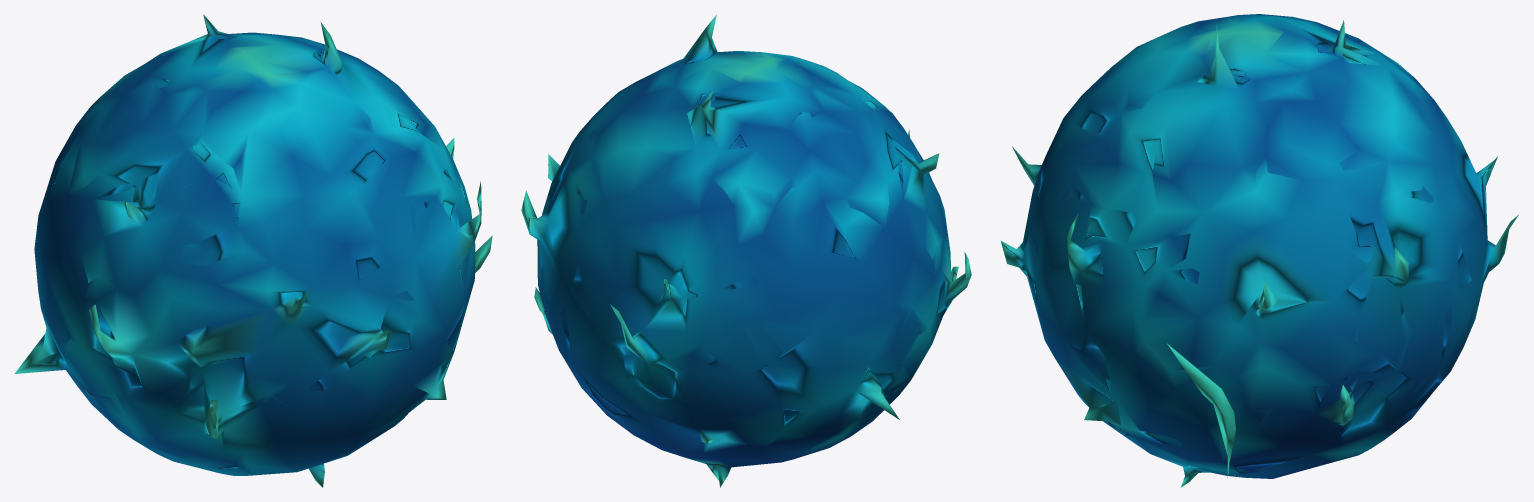
Rendered from gen3d-energy-ball-lod1.glb.
3 views of the same model, side by side, from view 1: azimuth 30°, elevation 25°; view 2: azimuth 150°, elevation 25°; view 3: azimuth 270°, elevation 25° (orthographic). The views are drawn at different scales.
Visible parts, largest first — view 1: part_0; view 2: part_0; view 3: part_0.
Part boxes in pixels (x1=…): part_0: x1=14, y1=14, x2=492, y2=487; part_0: x1=521, y1=14, x2=971, y2=487; part_0: x1=1000, y1=14, x2=1518, y2=487.
Size of the model in its own units: 0.9227 by 0.973 by 0.9712.
